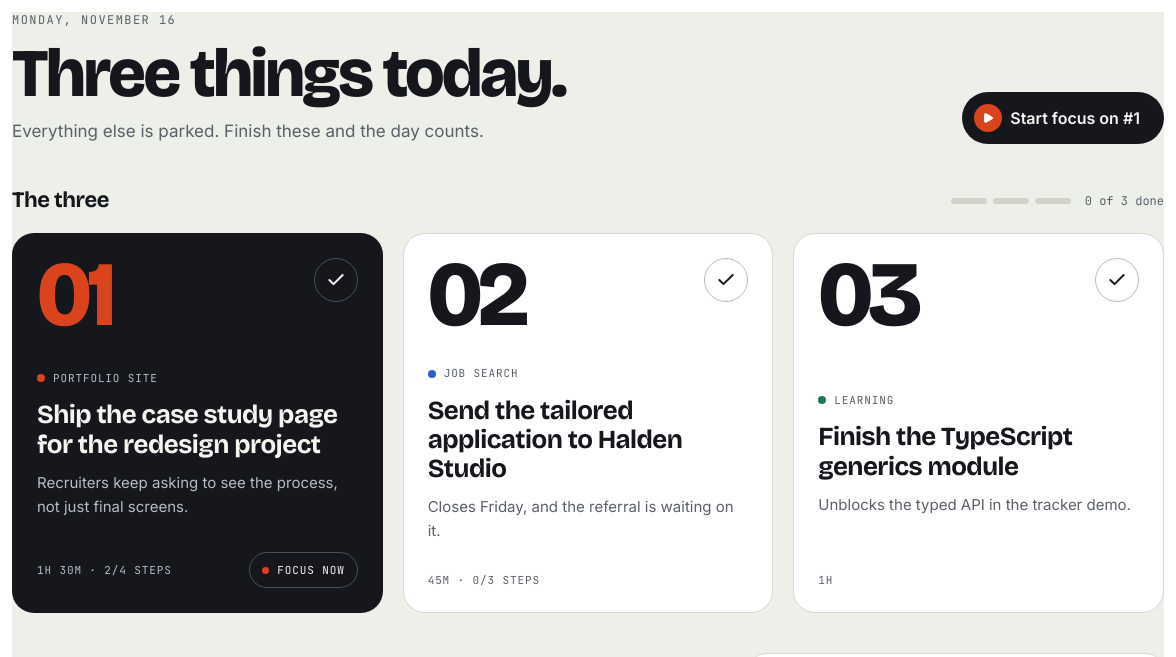
Today › starts focus on the first unfinished priority
The width and height of the screenshot is (1176, 657).
Step 1. Click the button named "Mark done: Ship the case study" → [336, 280], box [314, 258, 358, 302]
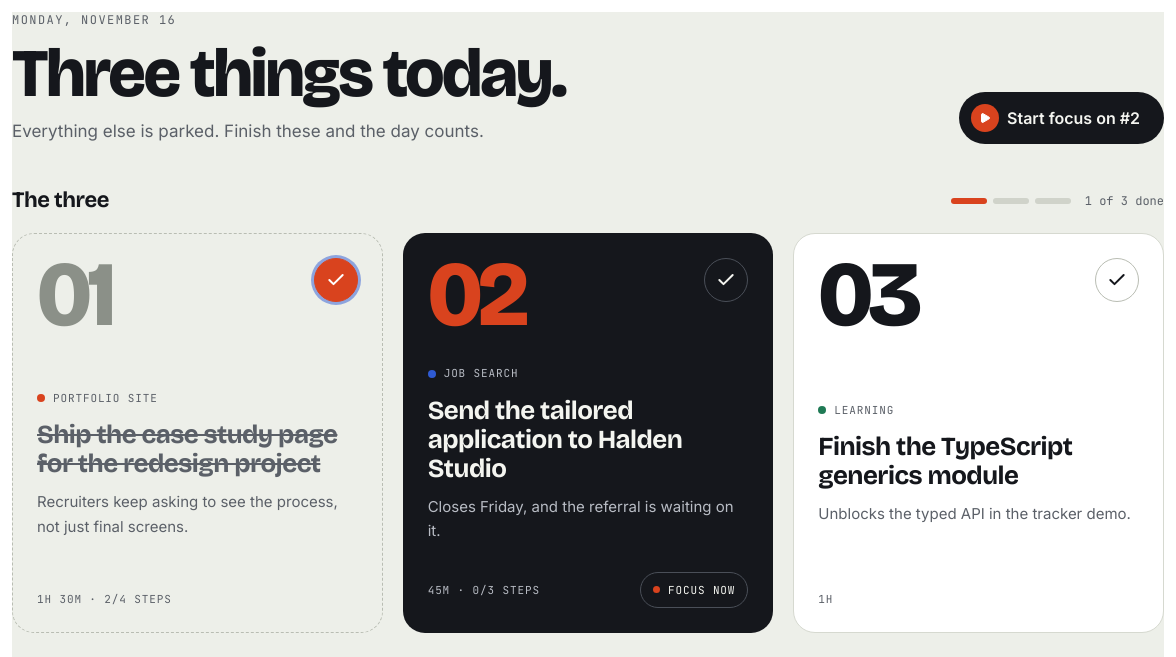
Check: the text "1 of 3 done" is shown, box [1085, 193, 1164, 209]
